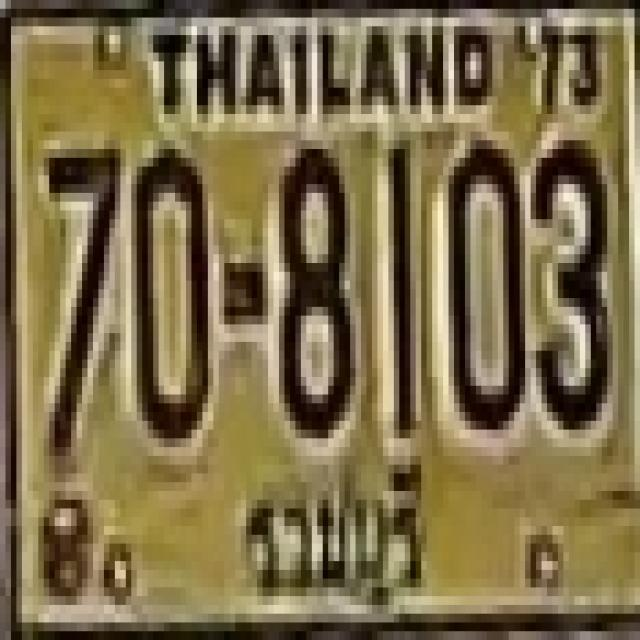0: (134, 140, 211, 438), (443, 131, 520, 421)
1: (386, 132, 413, 430)
3: (534, 131, 604, 421)
7: (44, 140, 120, 447), (44, 140, 120, 360)
8: (276, 140, 353, 430)
RBR: (242, 456, 437, 617)
